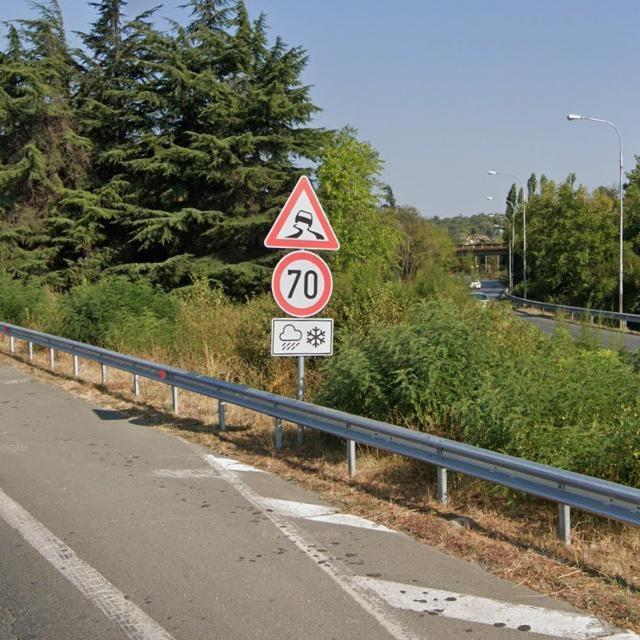forb_speed_over_70: (269, 249, 332, 317)
